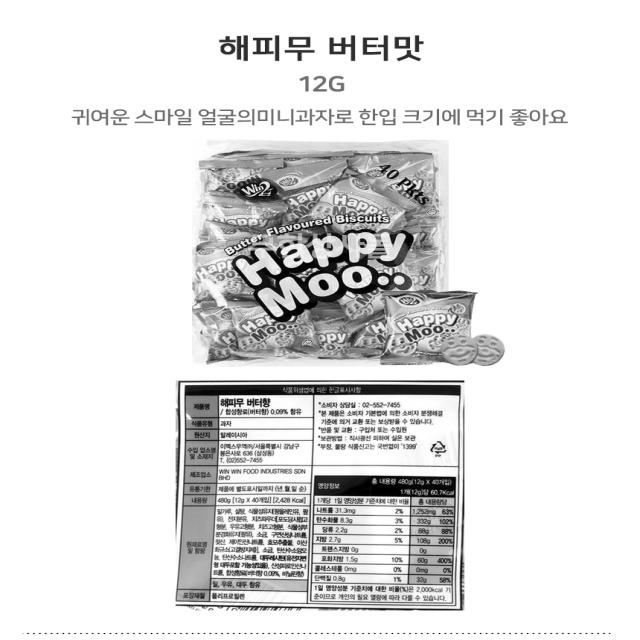Nutrition Label: (309, 468, 461, 611)
